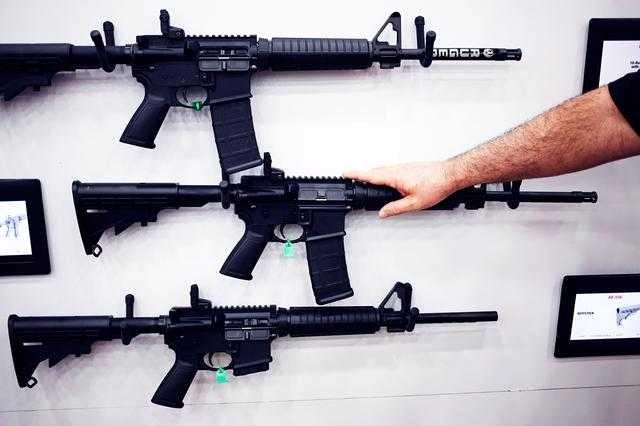rifle: (0, 6, 540, 173), (65, 157, 611, 306), (9, 289, 515, 411)
